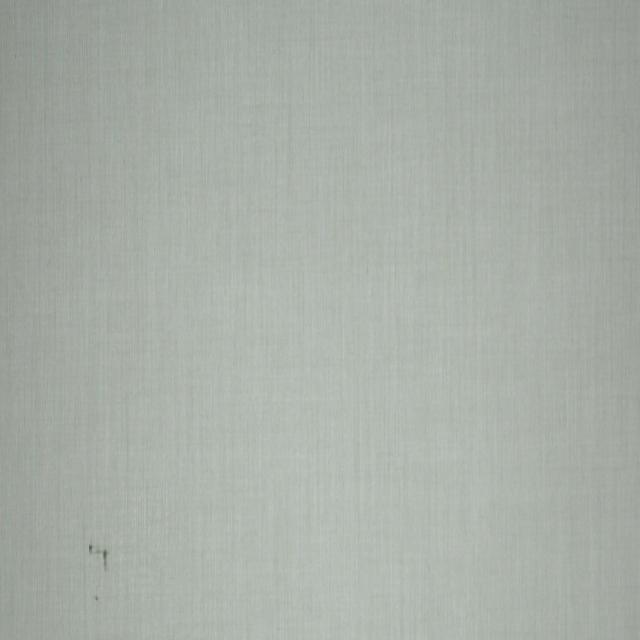dirty: (88, 538, 110, 570)
